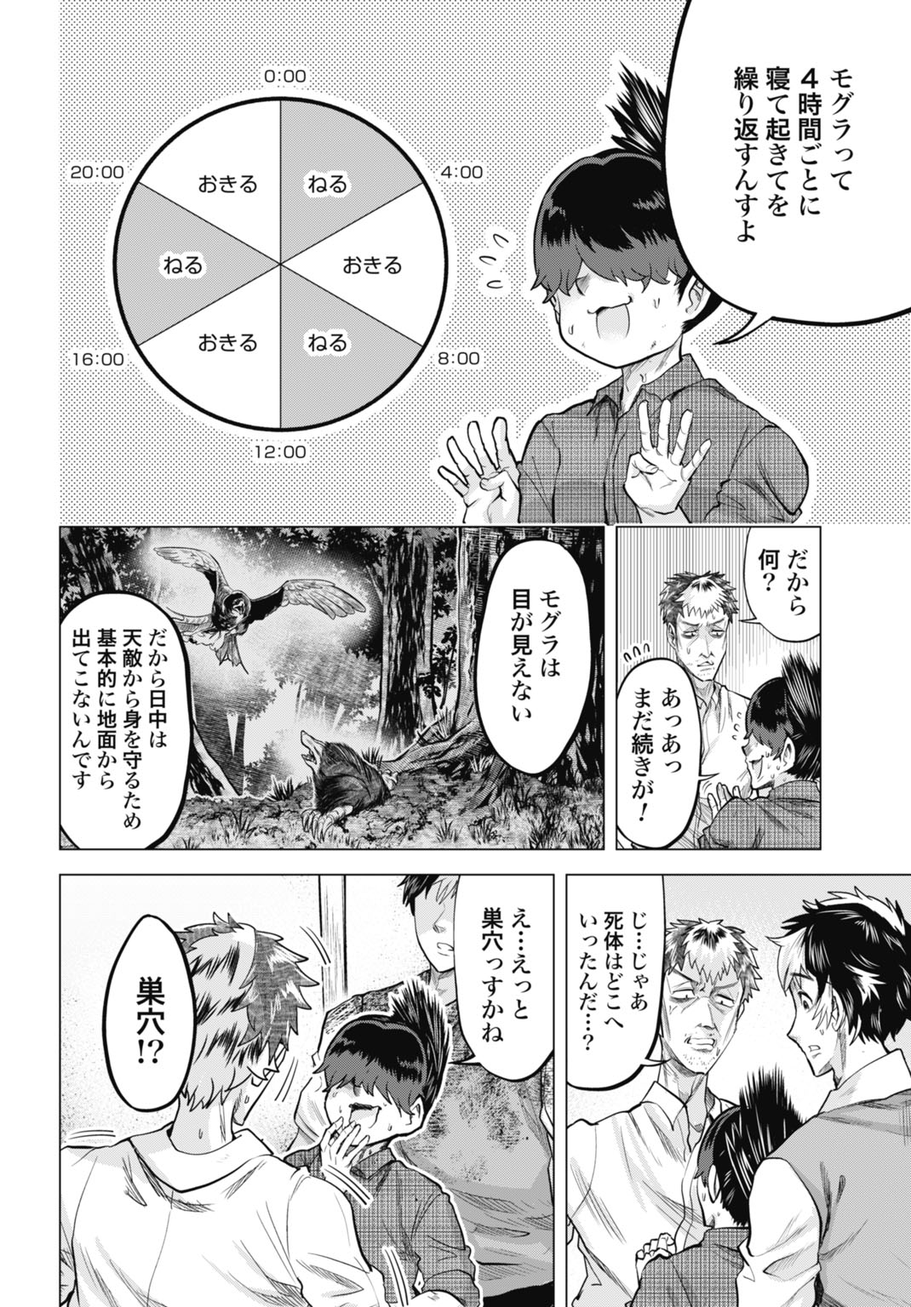bubbles: (653, 1, 911, 351), (59, 591, 199, 850), (470, 540, 595, 782), (562, 872, 678, 1093), (446, 876, 557, 1093), (617, 637, 725, 848), (100, 909, 203, 1116), (733, 526, 820, 650)
